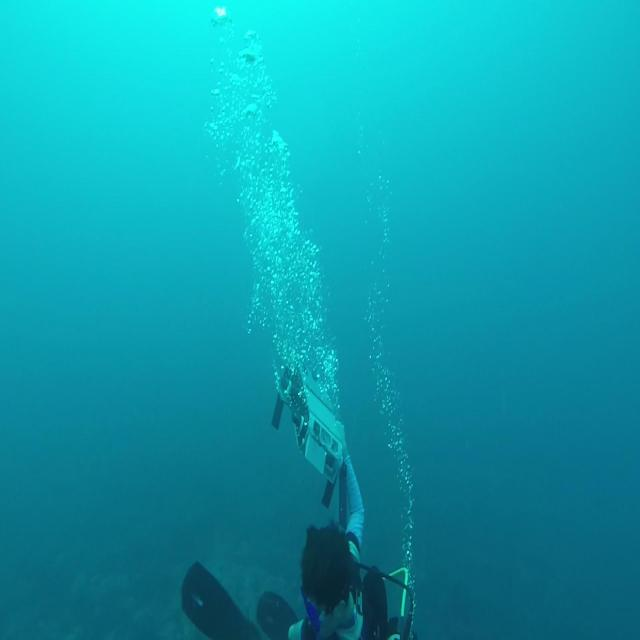human: (180, 363, 415, 639)
